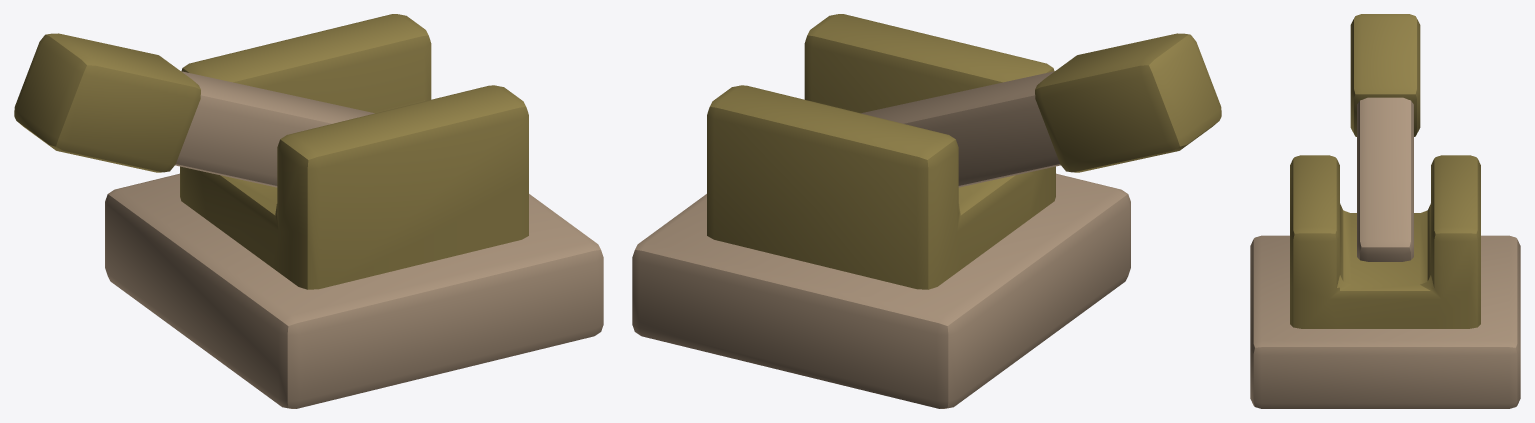
File: quaternius-cube-world-lever-left.glb
3 renders of one model, left to right at view 1: azimuth 30°, elevation 25°; view 2: azimuth 150°, elevation 25°; view 3: azimuth 270°, elevation 25°, orthographic. The views are drawn at different scales.
Parts seen in each view (by area): view 1: Lever_Left; view 2: Lever_Left; view 3: Lever_Left.
Part boxes in pixels (left/top/right/bottom): Lever_Left: left=14, top=14, right=603, bottom=408; Lever_Left: left=632, top=14, right=1221, bottom=408; Lever_Left: left=1250, top=14, right=1520, bottom=408.
Bounding box in the file's own units: 1.97 × 1.3 × 1.32.
1 material, 1 textured.
